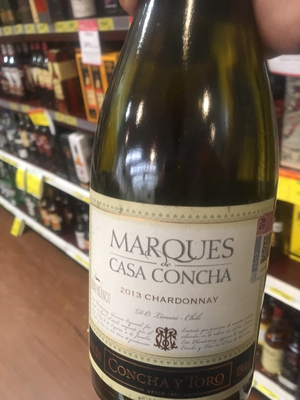marques de casa concha chardonnay: (85, 10, 299, 400)
